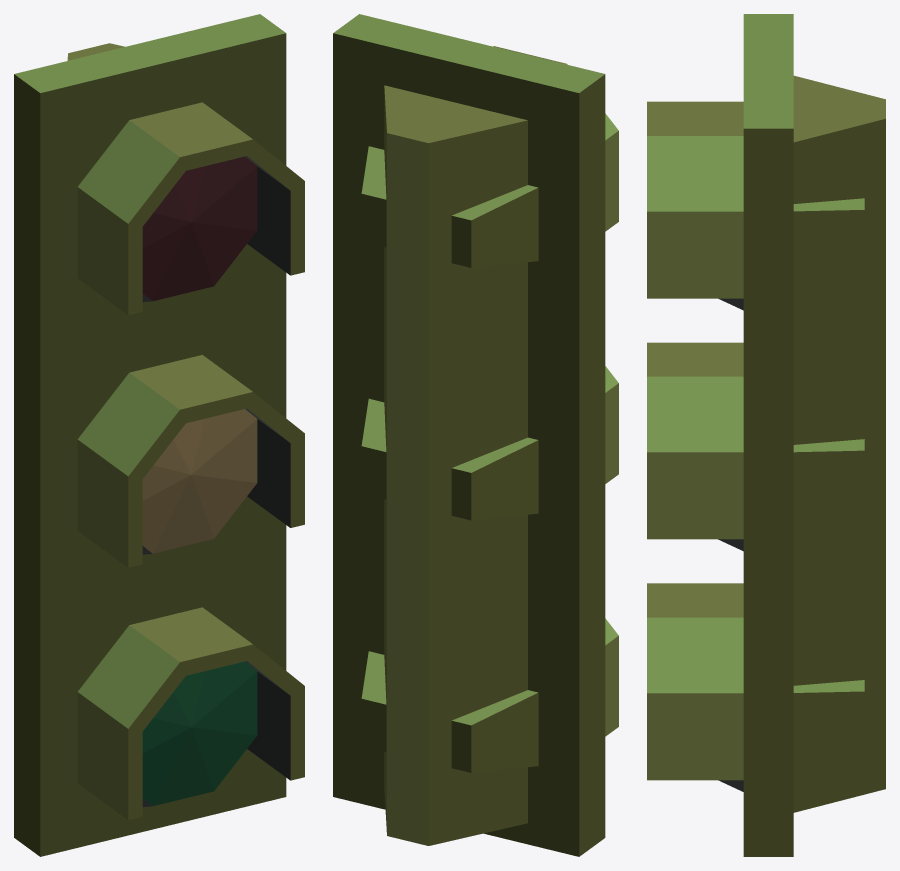
The model's file is TB_CITY_Prop_TrafficLight_B_Green.FBX.
3 renders of one model, left to right at view 1: azimuth 30°, elevation 25°; view 2: azimuth 150°, elevation 25°; view 3: azimuth 270°, elevation 25°, orthographic. The views are drawn at different scales.
Parts seen in each view (by area): view 1: TB_CITY_Prop_TrafficLight_B_Green; view 2: TB_CITY_Prop_TrafficLight_B_Green; view 3: TB_CITY_Prop_TrafficLight_B_Green.
Part boxes in pixels (x1,y1,x2,y2): TB_CITY_Prop_TrafficLight_B_Green: [14, 14, 304, 856]; TB_CITY_Prop_TrafficLight_B_Green: [333, 14, 618, 856]; TB_CITY_Prop_TrafficLight_B_Green: [647, 14, 885, 856].
Size of the model in its own units: 1.03 by 3.04 by 0.9038.
